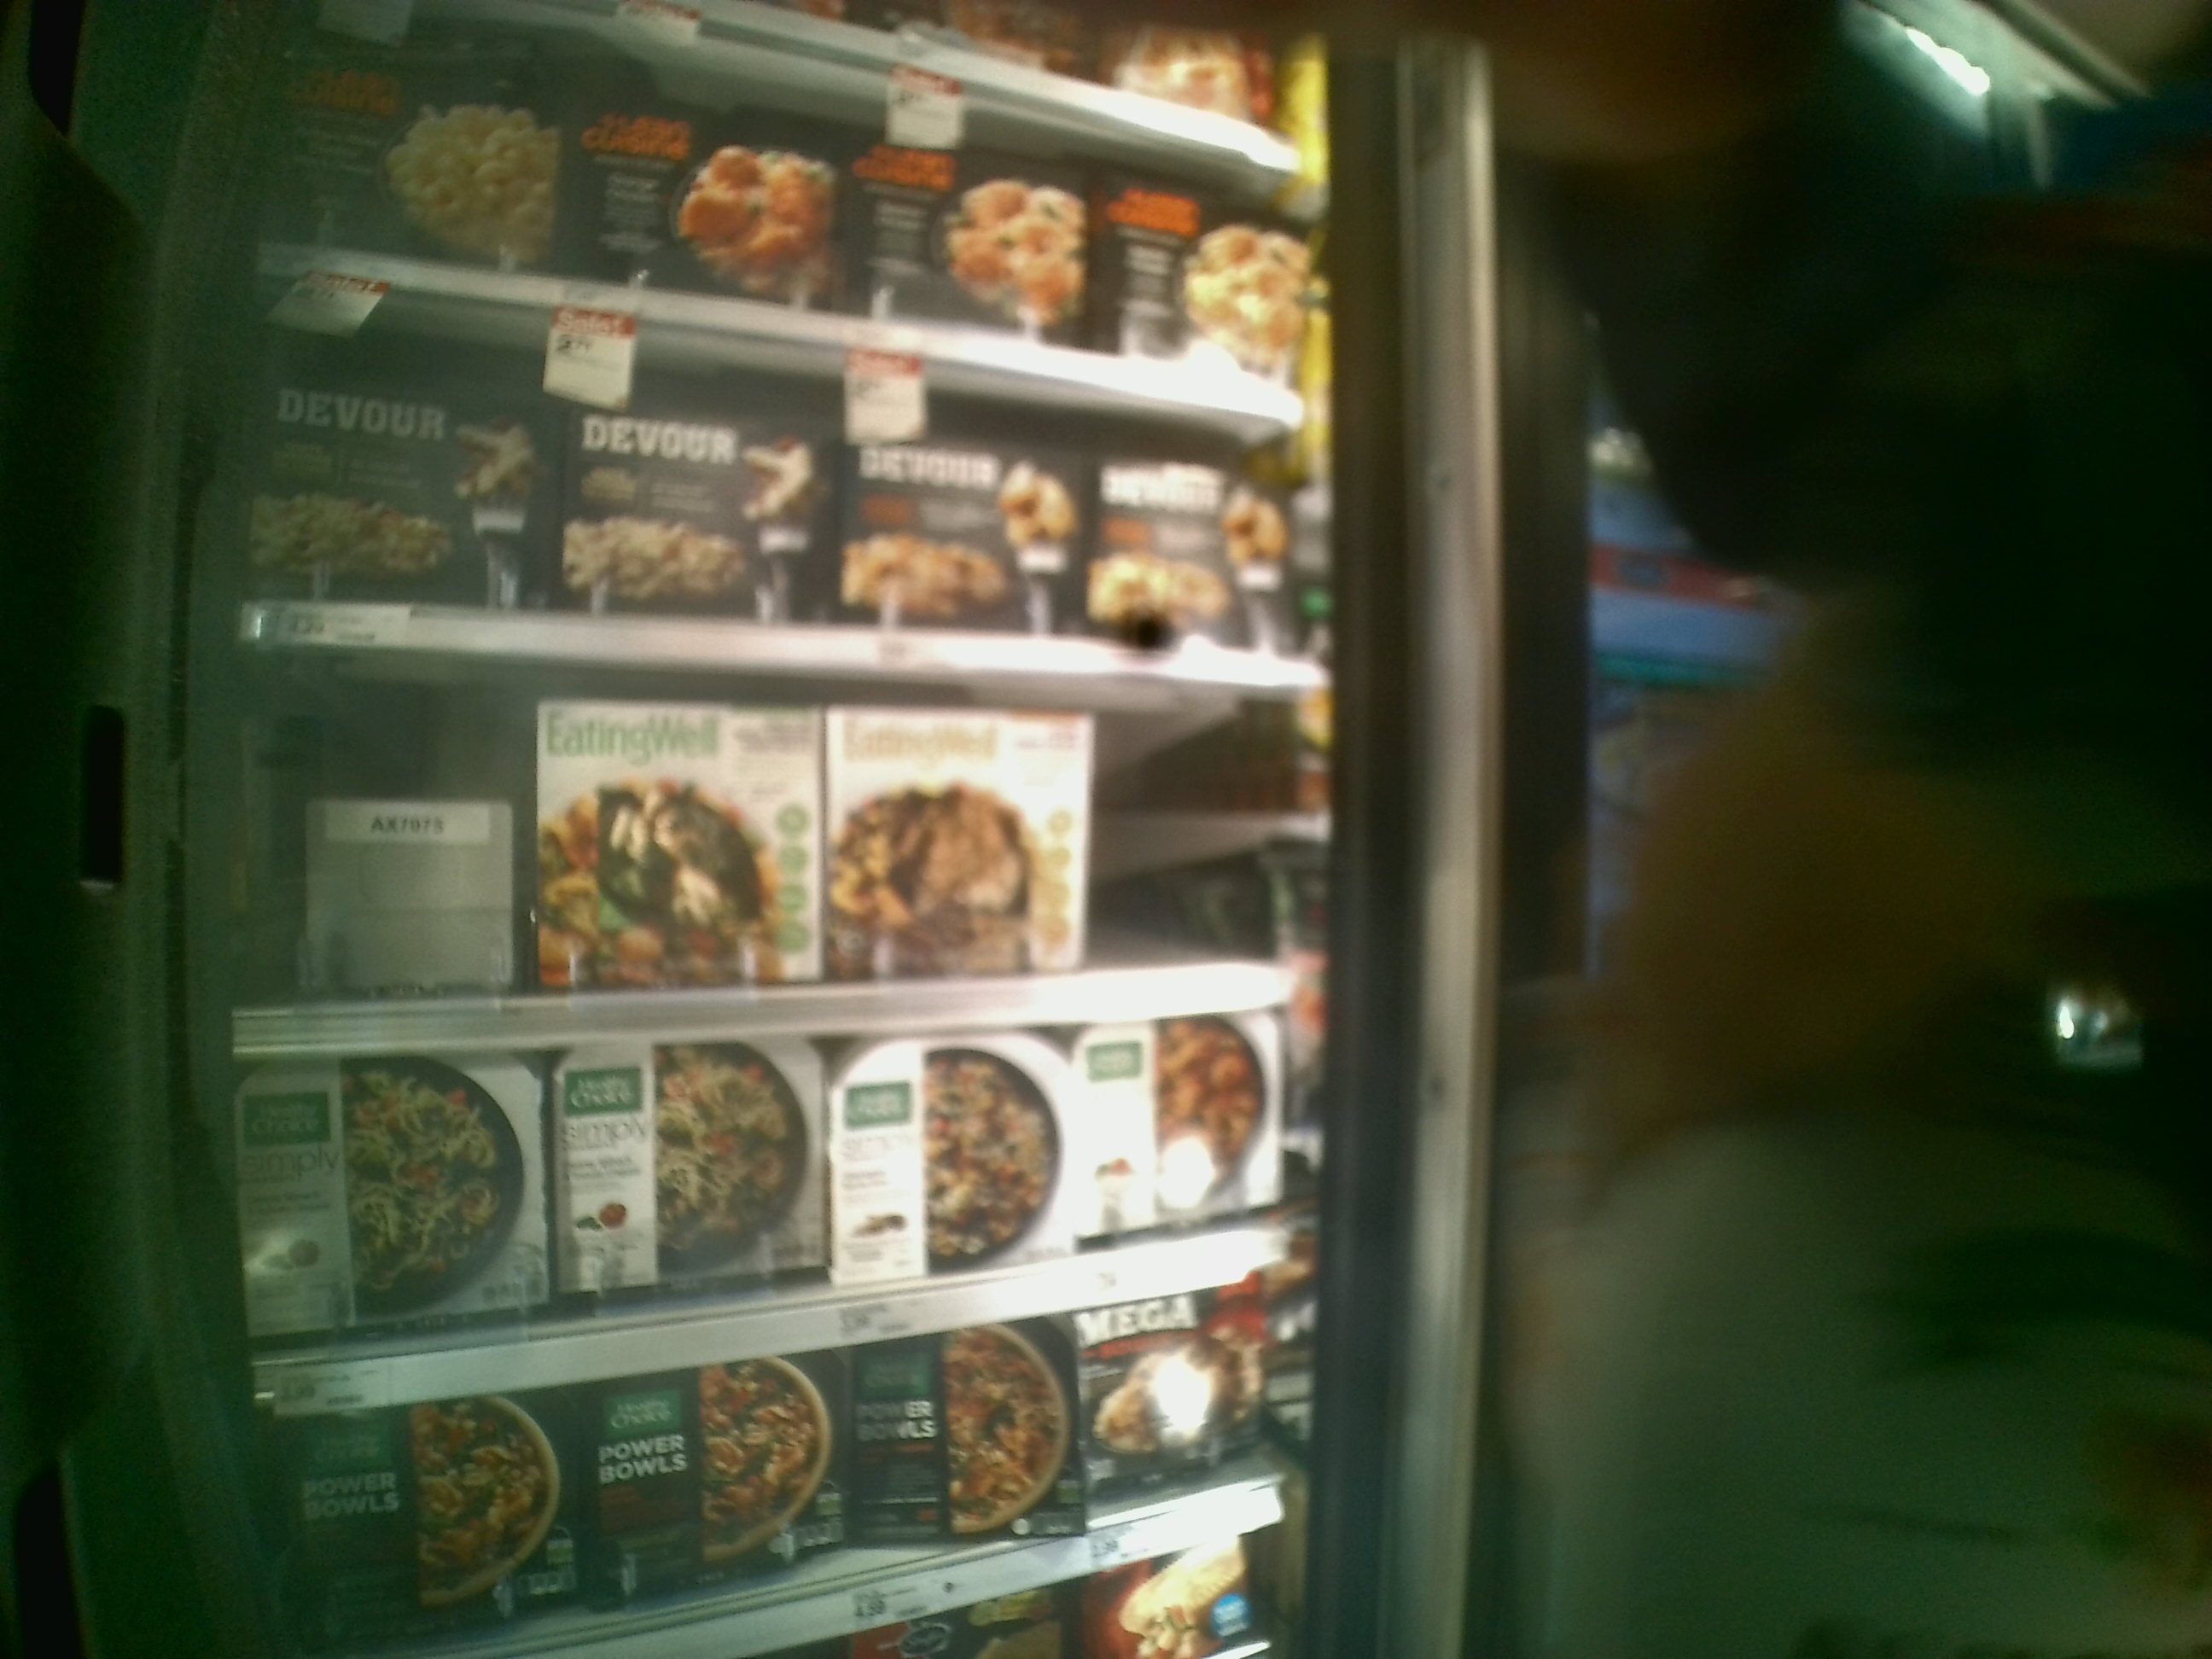shelf: (206, 648, 1338, 1060), (230, 1000, 1325, 1422), (240, 265, 1331, 683)
